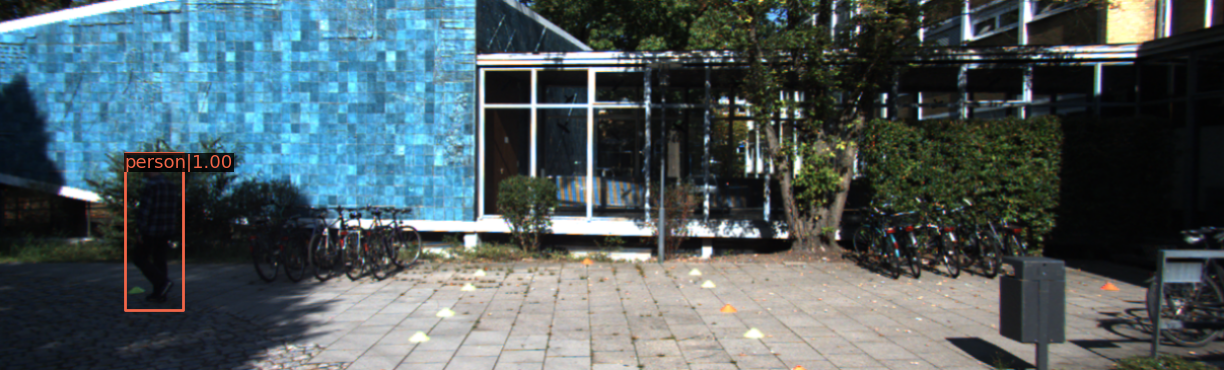person: (126, 158, 189, 308)
